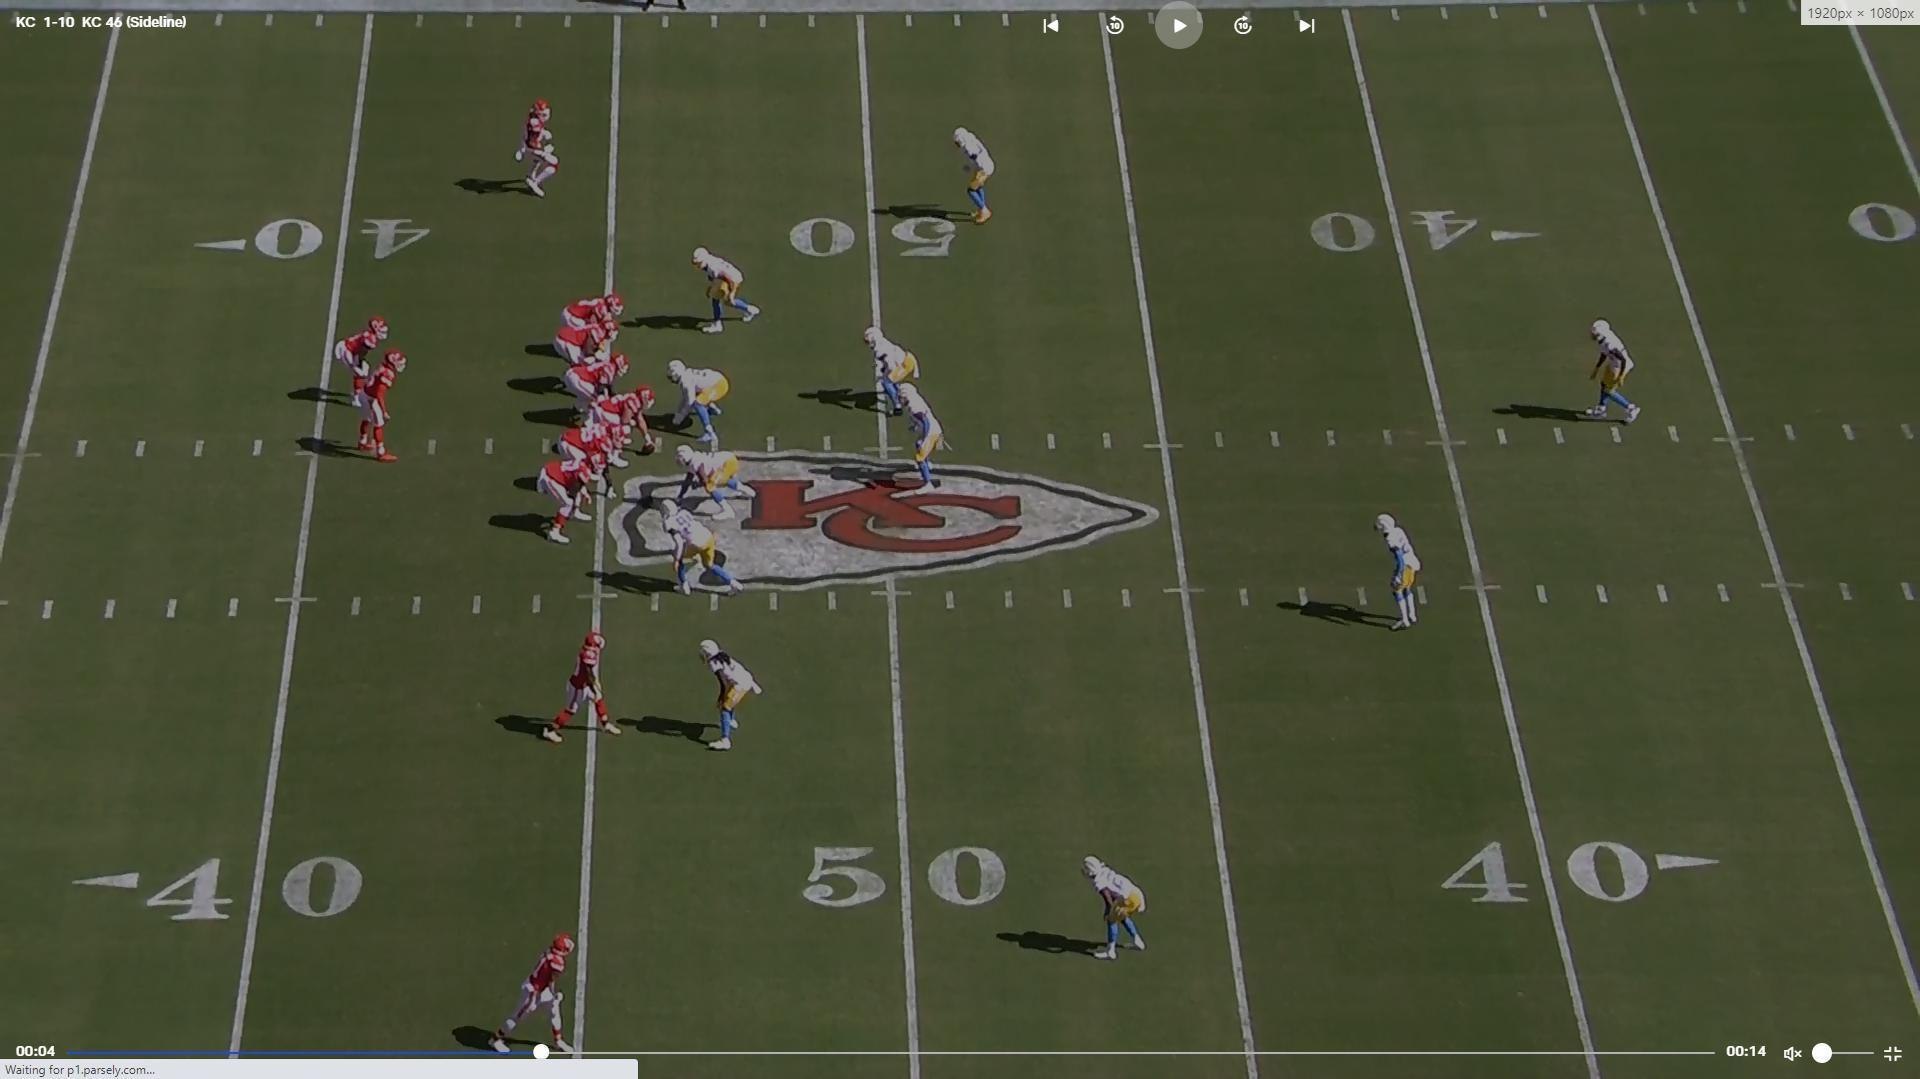player: (490, 933, 589, 1058), (539, 626, 613, 750), (1084, 852, 1157, 965), (662, 499, 743, 598), (700, 637, 764, 760), (547, 440, 615, 544), (359, 344, 419, 461), (1583, 314, 1644, 429), (683, 240, 755, 336), (1373, 509, 1425, 631), (672, 445, 756, 519), (890, 372, 942, 486), (338, 314, 396, 416), (662, 357, 729, 443), (555, 416, 623, 498), (591, 382, 661, 460), (862, 322, 915, 418), (950, 126, 998, 229), (551, 291, 623, 359), (512, 98, 560, 200), (572, 351, 632, 409), (554, 318, 621, 368)
